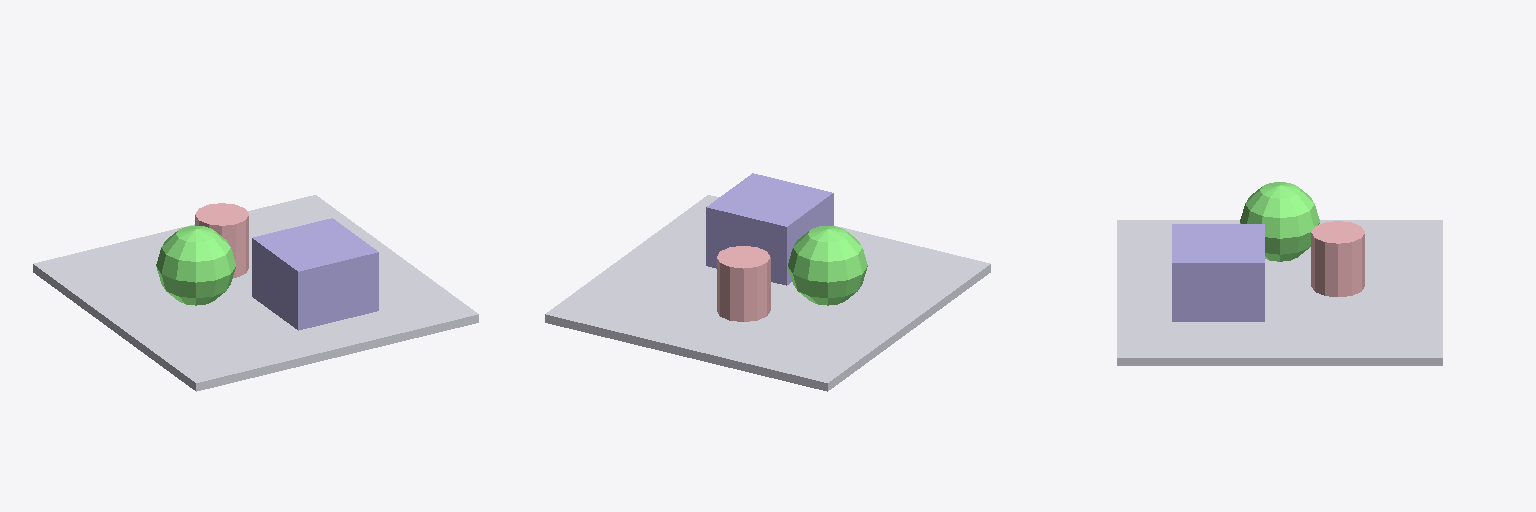
Rendered from simple4_2.obj.
3 views of the same model, side by side, from view 1: azimuth 30°, elevation 25°; view 2: azimuth 150°, elevation 25°; view 3: azimuth 270°, elevation 25° (orthographic).
Visible parts, largest first — view 1: Box01, Box02, Sphere01, Cylinder02; view 2: Box01, Box02, Sphere01, Cylinder02; view 3: Box01, Box02, Sphere01, Cylinder02.
Boxes of the visible parts, <box> form: Box01: <box>33,195,478,391</box>; Box02: <box>252,218,378,330</box>; Sphere01: <box>156,226,235,305</box>; Cylinder02: <box>195,203,248,277</box>; Box01: <box>545,195,990,391</box>; Box02: <box>706,173,833,285</box>; Sphere01: <box>788,226,867,305</box>; Cylinder02: <box>717,246,770,321</box>; Box01: <box>1117,220,1442,365</box>; Box02: <box>1172,224,1264,321</box>; Sphere01: <box>1240,182,1319,261</box>; Cylinder02: <box>1311,221,1364,296</box>.
Bounding box in the file's own units: 634 × 177 × 634.